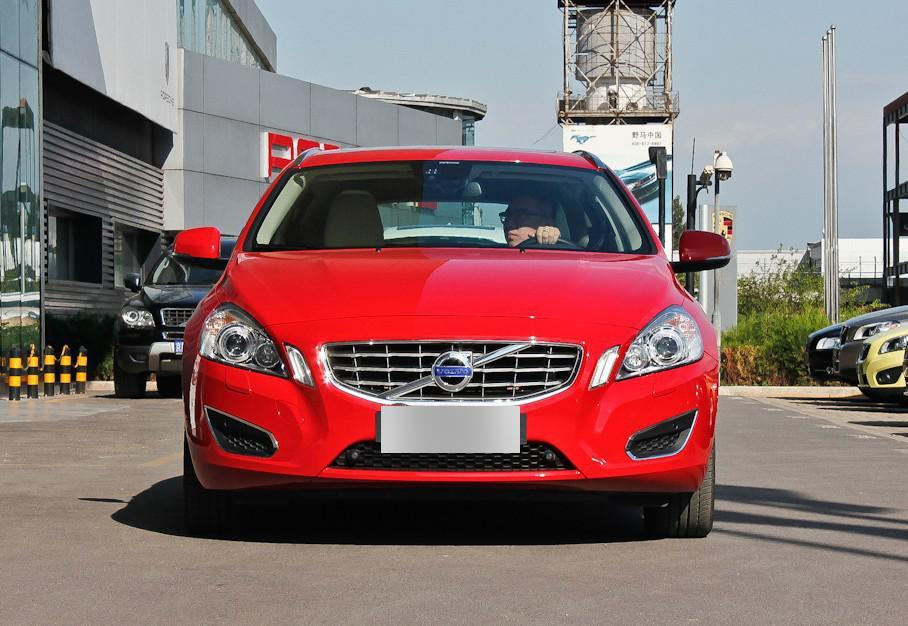Wagon: (171, 146, 733, 538)
